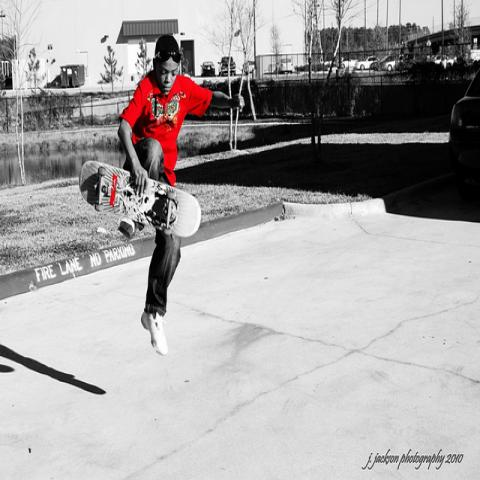car: (448, 69, 480, 162), (381, 54, 404, 72), (218, 57, 236, 77), (357, 56, 378, 70), (278, 56, 292, 74), (200, 60, 215, 76), (342, 59, 359, 73), (242, 61, 254, 74), (429, 53, 441, 66)
